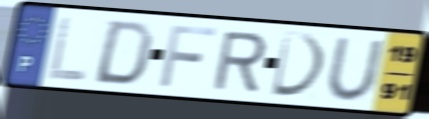D: (90, 18, 157, 88), (268, 29, 330, 100)
F: (157, 23, 220, 89)
L: (45, 14, 90, 83)
R: (210, 30, 269, 93)
U: (324, 36, 387, 104)
